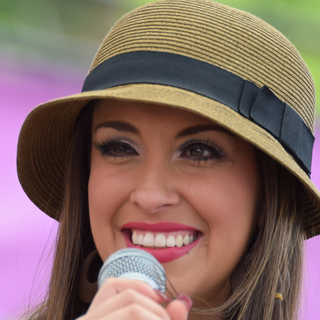eye: (175, 139, 228, 165), (97, 138, 144, 163)
